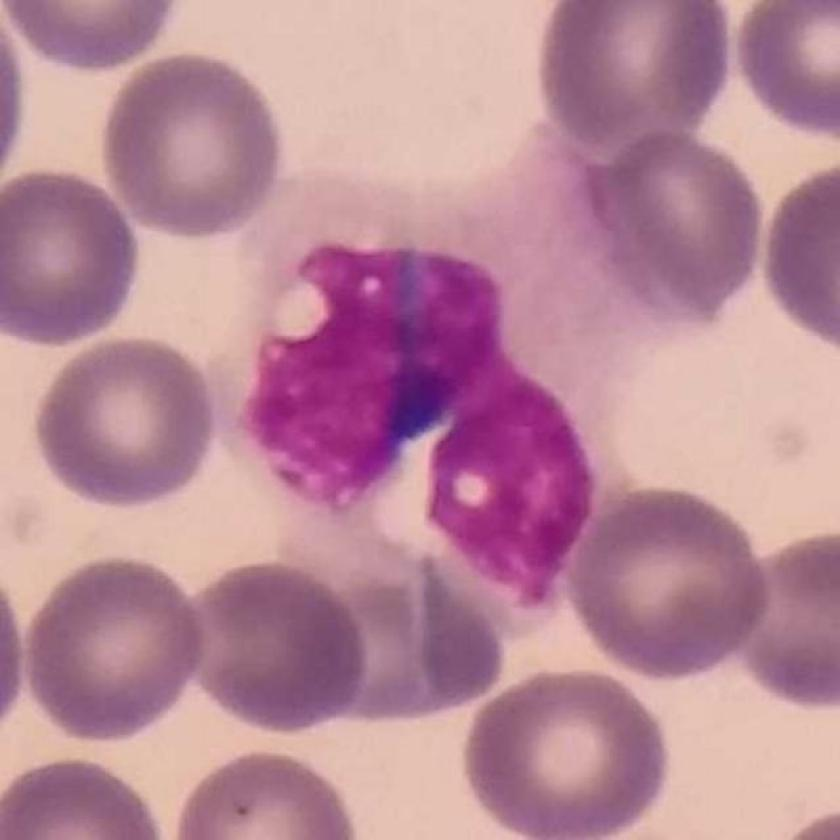monocyte: (228, 109, 674, 650)
